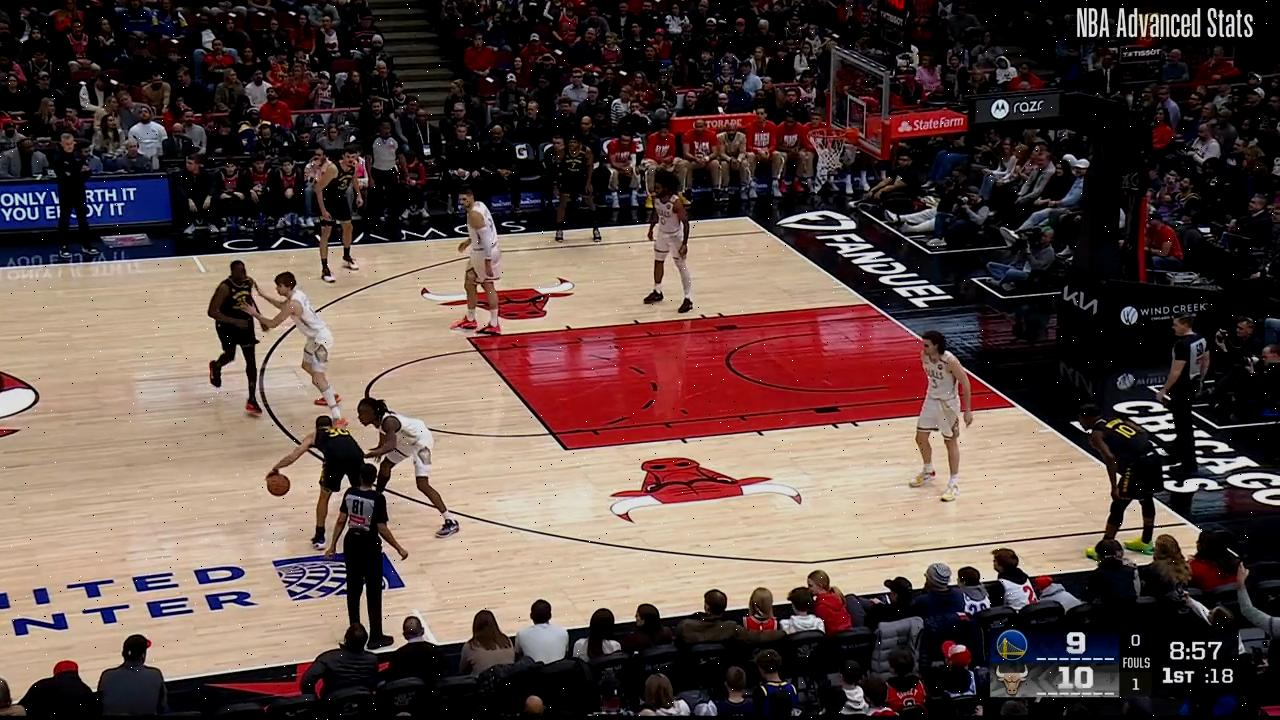basketball: (263, 470, 293, 499)
